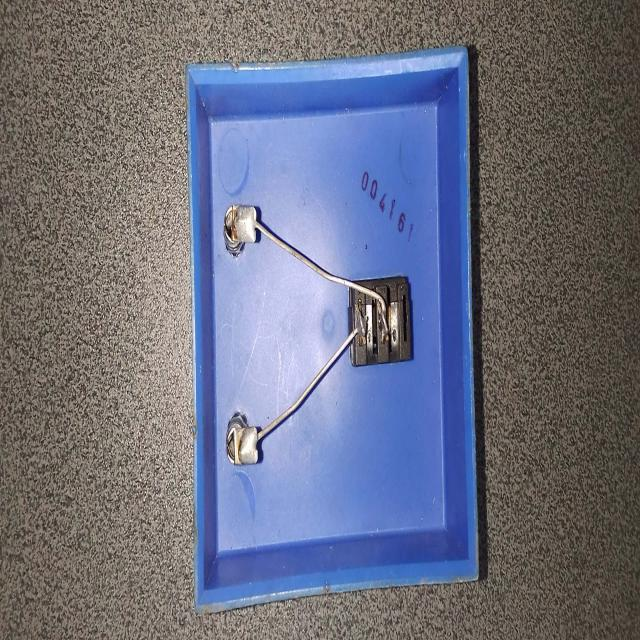ON-OFF Switch: (171, 54, 499, 617)
